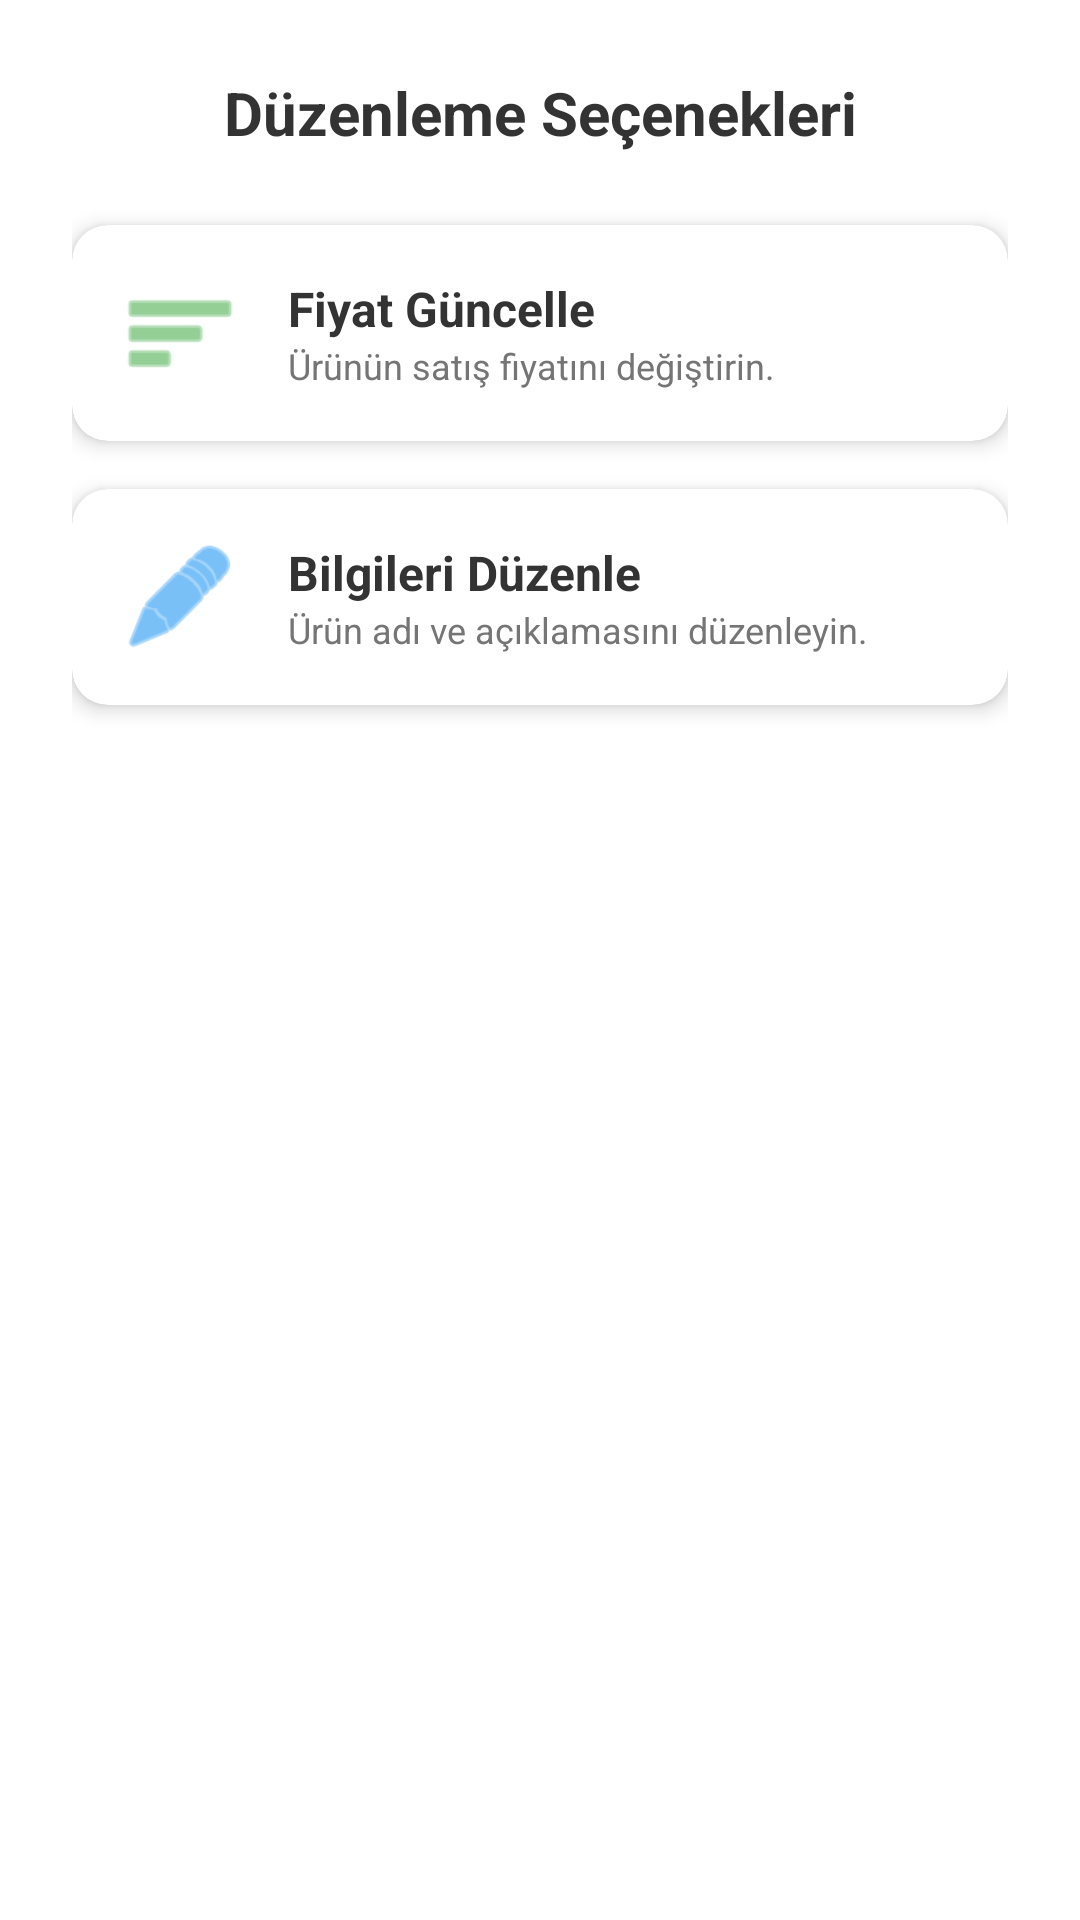

Screen size 1080px x 1920px. Icon name, then its box in pixels as rect(x1, y1, x2, y2):
edit: rect(129, 545, 230, 647)
sort by size: rect(128, 300, 232, 367)
